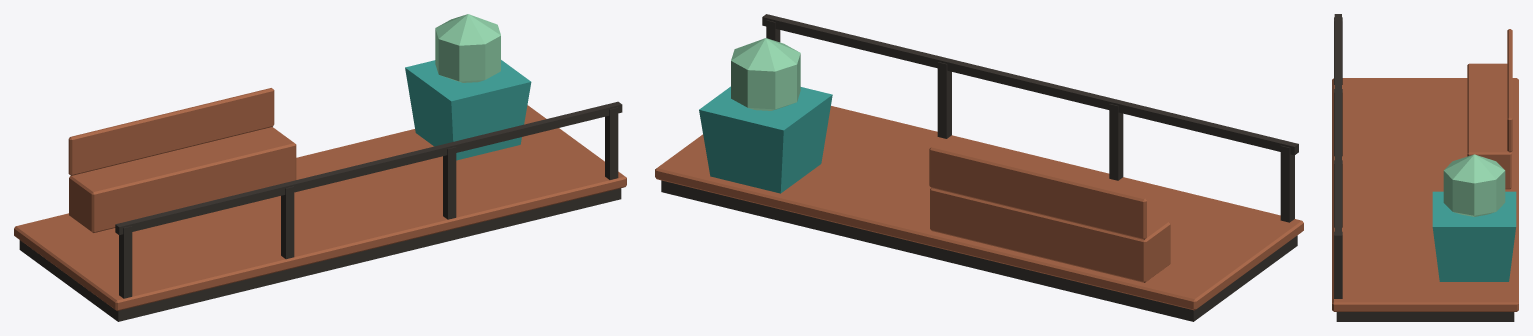
Rendered from parklet.glb.
3 views of the same model, side by side, from view 1: azimuth 30°, elevation 25°; view 2: azimuth 150°, elevation 25°; view 3: azimuth 270°, elevation 25° (orthographic). The views are drawn at different scales.
Visible parts, largest first — view 1: parklet_deck, parklet_bench, parklet_benchback, parklet_tub, parklet_skirt, parklet_rail, parklet_shrub, parklet_post-2.85, parklet_post-0.95, parklet_post0.95, parklet_post2.85; view 2: parklet_deck, parklet_bench, parklet_tub, parklet_benchback, parklet_skirt, parklet_rail, parklet_shrub, parklet_post-2.85, parklet_post0.95, parklet_post-0.95; view 3: parklet_deck, parklet_tub, parklet_bench, parklet_shrub, parklet_rail, parklet_skirt, parklet_benchback, parklet_post2.85.
Part boxes in pixels (<box>): parklet_deck: <box>14,105,626,310</box>; parklet_bench: <box>69,127,296,232</box>; parklet_benchback: <box>68,88,274,175</box>; parklet_tub: <box>405,60,531,160</box>; parklet_skirt: <box>19,188,621,321</box>; parklet_rail: <box>115,101,622,235</box>; parklet_shrub: <box>435,14,500,82</box>; parklet_post-2.85: <box>119,226,132,298</box>; parklet_post-0.95: <box>281,186,294,259</box>; parklet_post0.95: <box>443,147,456,219</box>; parklet_post2.85: <box>605,107,618,179</box>; parklet_deck: <box>655,106,1303,310</box>; parklet_bench: <box>930,188,1170,282</box>; parklet_tub: <box>699,86,832,193</box>; parklet_benchback: <box>929,146,1146,239</box>; parklet_skirt: <box>661,180,1297,321</box>; parklet_rail: <box>762,14,1298,155</box>; parklet_shrub: <box>731,38,800,110</box>; parklet_post-2.85: <box>1280,145,1294,222</box>; parklet_post0.95: <box>937,62,951,138</box>; parklet_post-0.95: <box>1109,104,1123,180</box>; parklet_deck: <box>1332,78,1518,311</box>; parklet_tub: <box>1432,191,1516,281</box>; parklet_bench: <box>1467,63,1511,189</box>; parklet_shrub: <box>1443,154,1505,216</box>; parklet_rail: <box>1334,14,1341,242</box>; parklet_skirt: <box>1336,312,1514,321</box>; parklet_benchback: <box>1507,29,1512,152</box>; parklet_post2.85: <box>1334,231,1342,298</box>.
Size of the model in its own units: 6 by 1.66 by 2.1.
